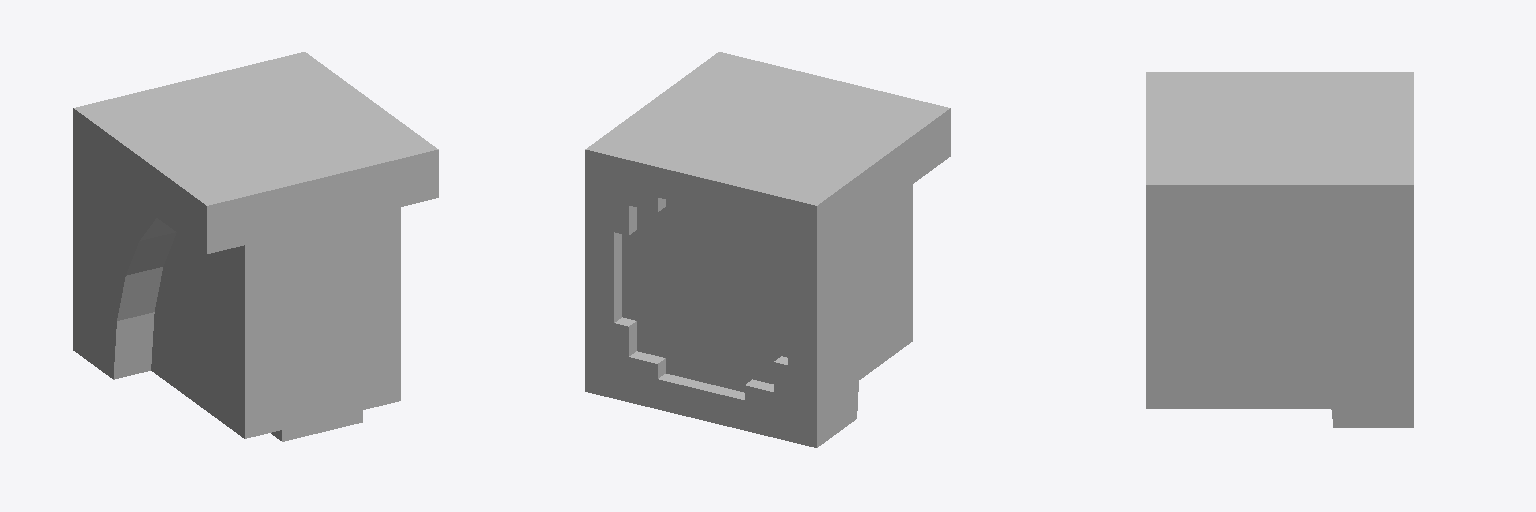
The model's file is pattern_storage.obj.
The picture shows the model from 3 angles: view 1: azimuth 30°, elevation 25°; view 2: azimuth 150°, elevation 25°; view 3: azimuth 270°, elevation 25°; orthographic projection.
Parts seen in each view (by area): view 1: pattern_storage, drive; view 2: Vents, pattern_storage; view 3: pattern_storage.
Boxes of the visible parts, <box> form: pattern_storage: <box>73,52,438,438</box>; drive: <box>271,408,362,441</box>; Vents: <box>585,150,816,447</box>; pattern_storage: <box>585,52,950,447</box>; pattern_storage: <box>1146,72,1413,427</box>.
Bounding box in the file's own units: 1 × 1.05 × 1.